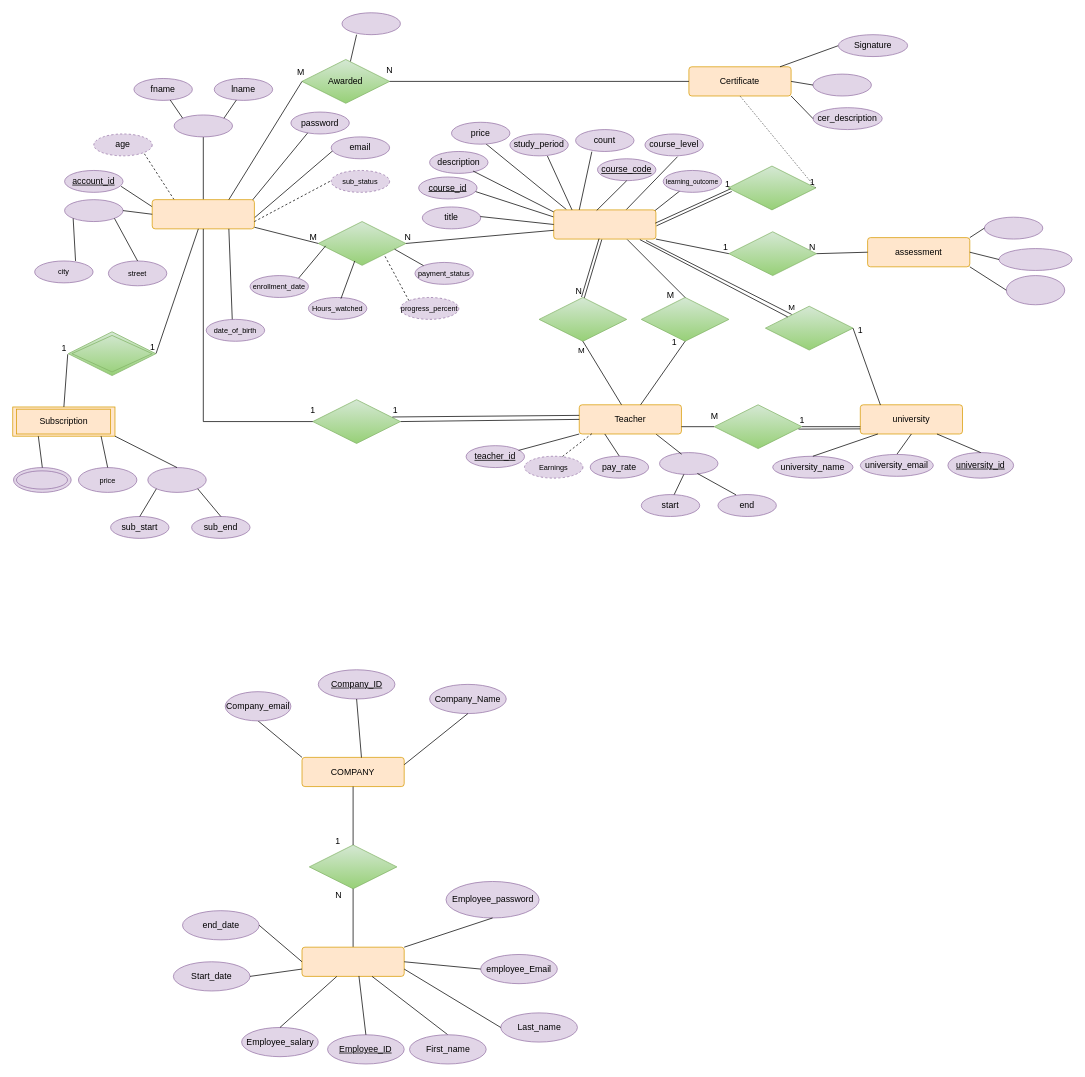
The diagram is 1085 pixels wide and 1077 high, and some of its shapes have lost their labels. Each missing label, with the box of its shape:
Account: (151, 199, 254, 229)
address: (64, 199, 123, 222)
assessment_number: (998, 248, 1072, 270)
Awards: (727, 165, 816, 210)
certificate_id: (812, 73, 871, 96)
Contains: (728, 231, 817, 276)
Contract: (714, 404, 802, 449)
Coordinates: (641, 297, 729, 341)
Course: (553, 209, 656, 239)
date: (659, 452, 718, 474)
EMPLOYEE: (301, 946, 404, 976)
Enrolled_in: (318, 221, 406, 265)
Is_a: (312, 399, 400, 443)
issue_date: (341, 12, 400, 35)
name: (173, 114, 233, 137)
Offers: (765, 306, 853, 350)
plan: (13, 467, 71, 492)
points: (984, 216, 1043, 239)
Sub_date: (147, 467, 206, 492)
Subscribe: (68, 331, 156, 376)
Teaches: (538, 297, 627, 341)
type: (1006, 275, 1065, 305)
works_for: (309, 844, 397, 889)
